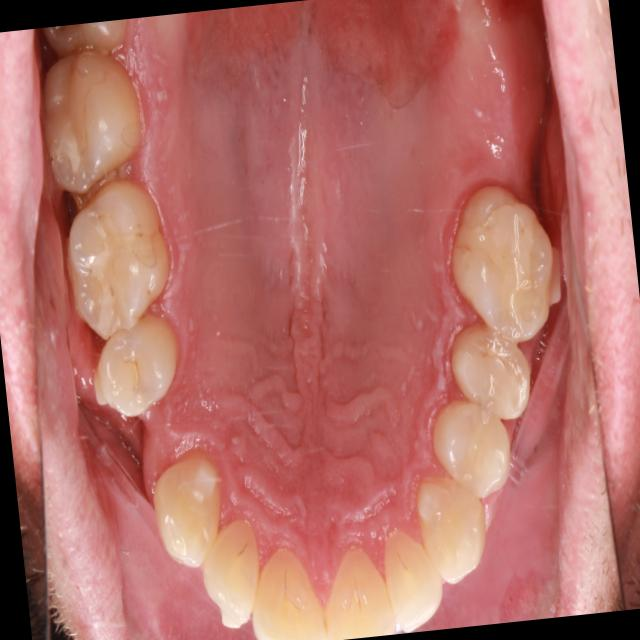tooth: (53, 176, 202, 356), (432, 170, 573, 359), (25, 38, 163, 210), (418, 378, 538, 522), (403, 466, 509, 603), (145, 441, 242, 584), (82, 311, 194, 431), (361, 509, 465, 636), (435, 319, 546, 435), (190, 507, 283, 640), (243, 519, 333, 640), (311, 532, 402, 640), (29, 17, 145, 81)
